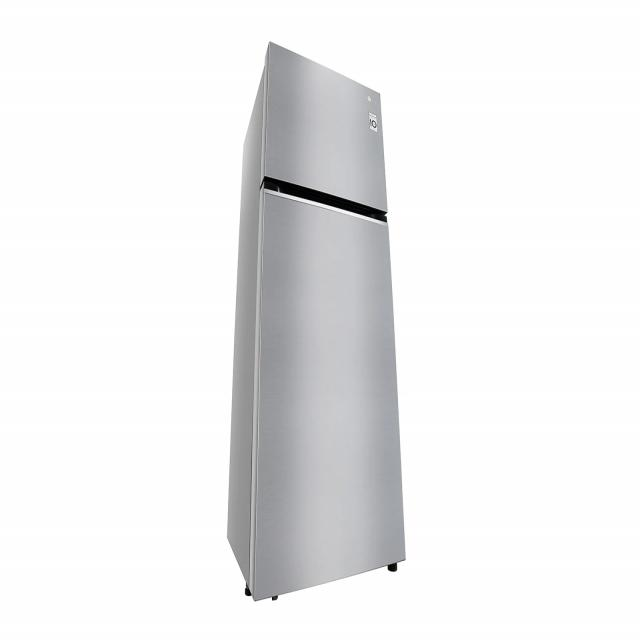refrigerator: (250, 41, 408, 598)
